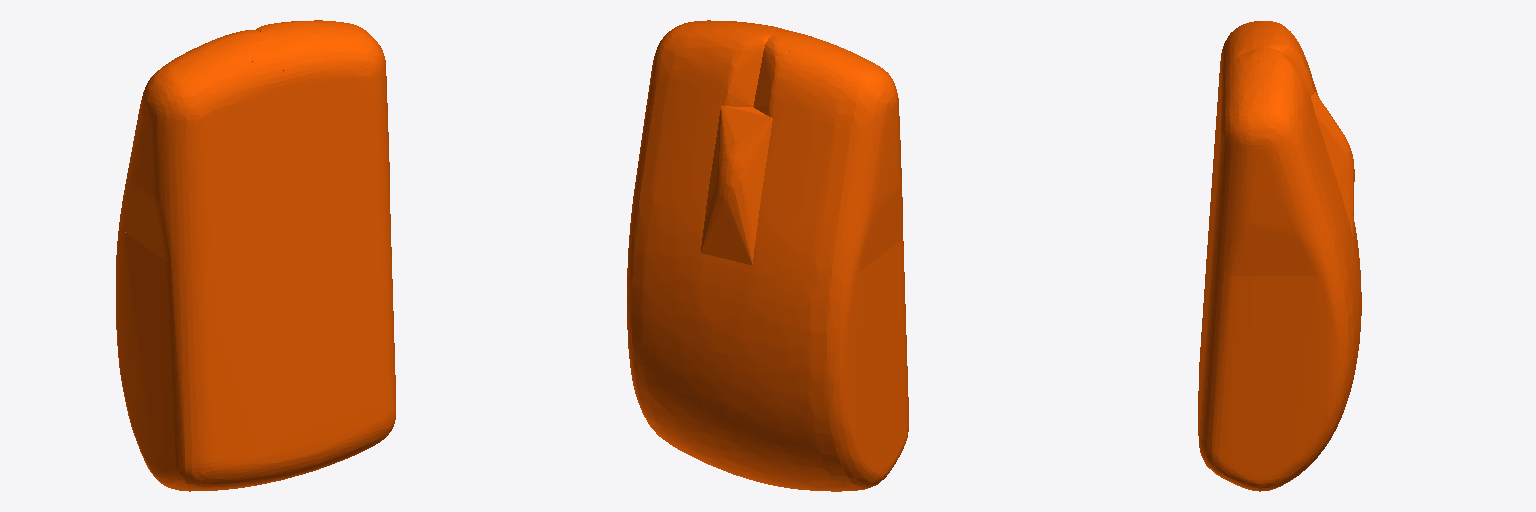
URDF robot description (design):
<?xml version="1.0"?>
<robot name="design">
  <material name="obj_color">
      <color rgba="1.0 0.423529411765 0.0392156862745 1.0"/>
  </material>
  <link name="base">
    <visual>
      <origin xyz="0.0 0.0 0.0"/>
      <geometry>
        <mesh filename="mouse.obj" scale="1 1 1"/>
      </geometry>
      <material name="obj_color"/>
    </visual>
    <collision>
      <origin xyz="0.0 0.0 0.0"/>
      <geometry>
        <mesh filename="mouse.obj" scale="1 1 1"/>
      </geometry>
    </collision>
  </link>
</robot>

--- Render facts (derived) ---
Views: 3 orthographic renders of the robot side by side, from view 1: azimuth 30°, elevation 25°; view 2: azimuth 150°, elevation 25°; view 3: azimuth 270°, elevation 25°.
Model design with 1 links and 0 joints (none), rooted at base, posed all joints at 0.
Visible links, largest first — view 1: base; view 2: base; view 3: base.
Boxes of the visible links, x1,y1,x2,y2 form: base: (116,20,395,491); base: (627,20,908,491); base: (1198,21,1361,491).
Bounding box of the posed robot: 0.0638 × 0.0421 × 0.1181 m (x, y, z).
1 mesh visuals loaded from 1 distinct referenced files (1 OBJ).
